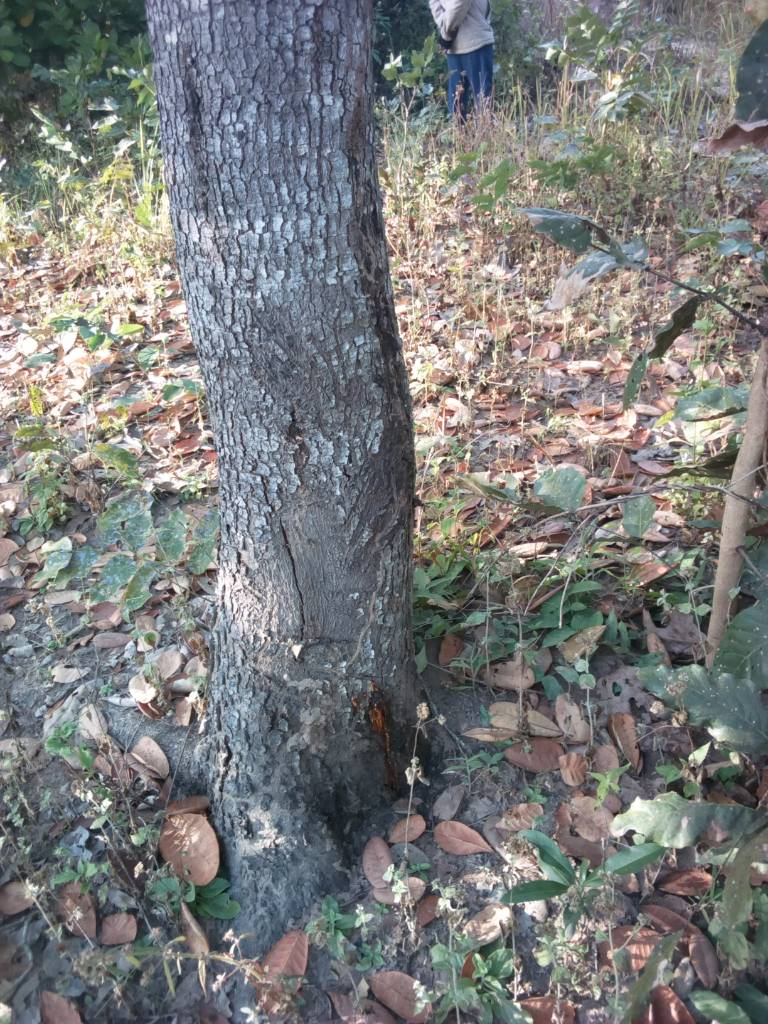Gommose: (307, 675, 425, 805)
